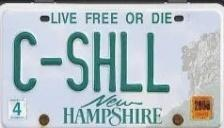C: (11, 29, 39, 95)
H: (92, 30, 117, 94)
L: (145, 31, 172, 94), (119, 31, 145, 93)
S: (64, 30, 92, 94)
